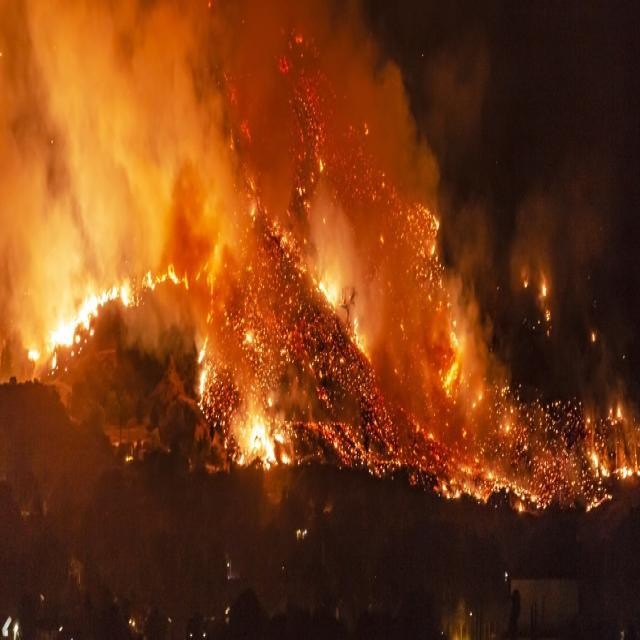Fire: (32, 287, 110, 341), (236, 413, 280, 473), (441, 350, 474, 402), (316, 258, 342, 310)
